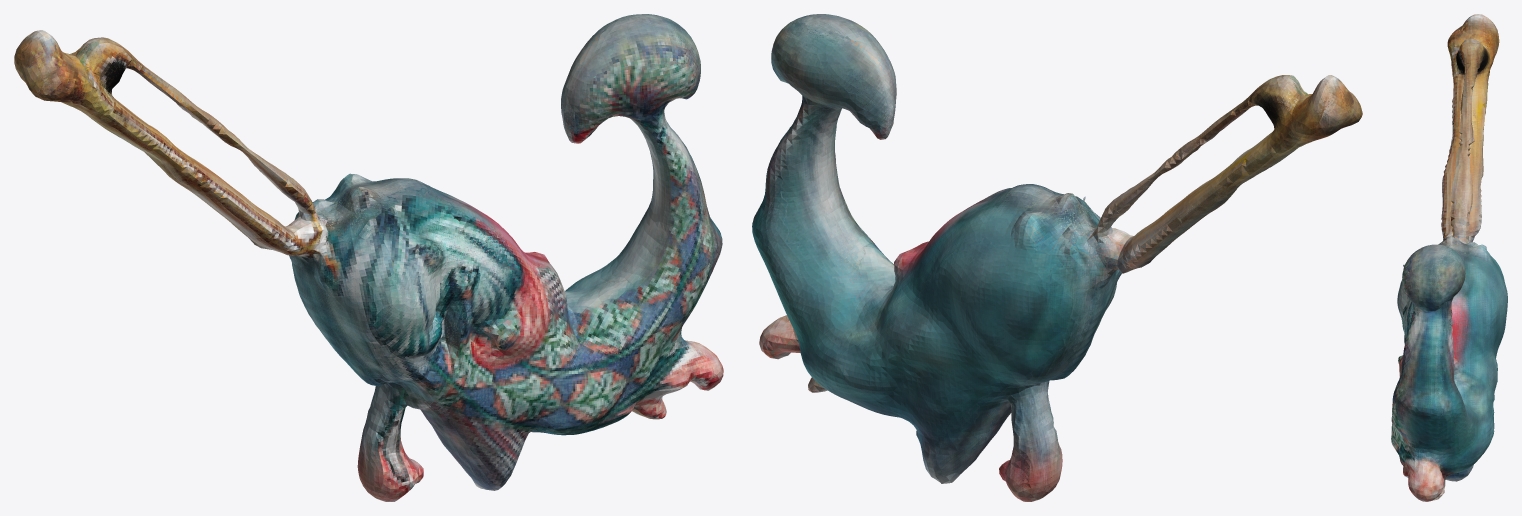
File: poisson.glb
3 renders of one model, left to right at view 1: azimuth 30°, elevation 25°; view 2: azimuth 150°, elevation 25°; view 3: azimuth 270°, elevation 25°, orthographic. The views are drawn at different scales.
Bounding box in the file's own units: 1.4 × 1.1 × 0.3449.
Materials: 1 (1 with a texture image).
